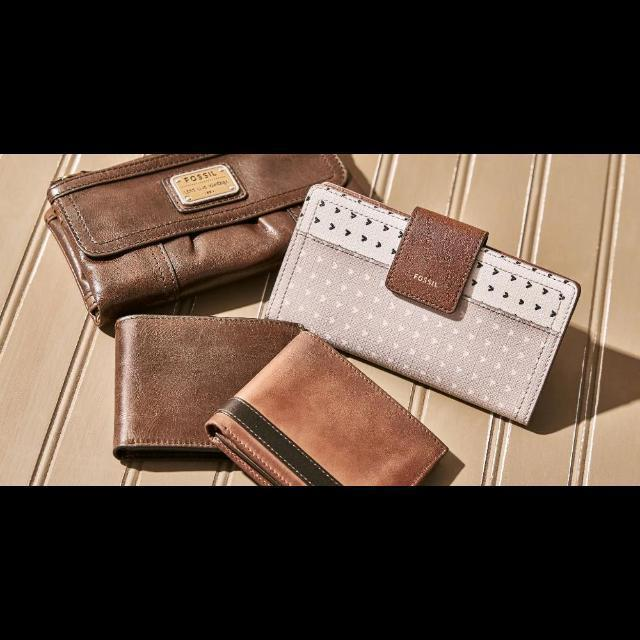wallet: (258, 178, 584, 424), (41, 152, 349, 322), (200, 327, 448, 485), (100, 310, 304, 456)
